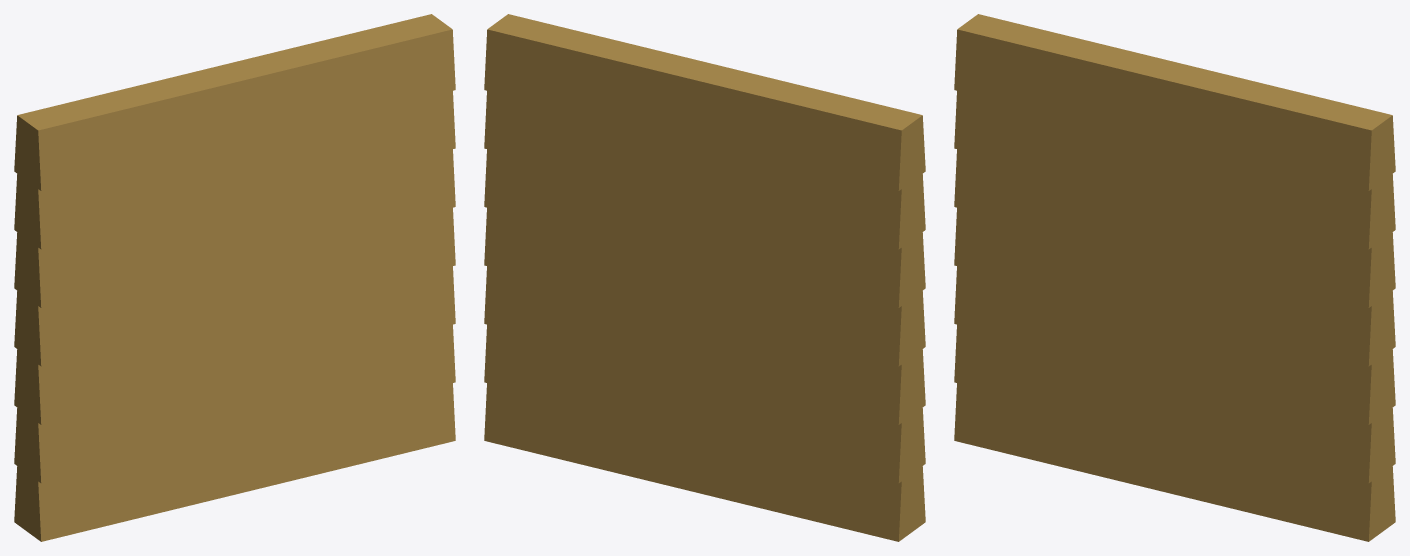
The model's file is Wall01_house4.obj.
3 renders of one model, left to right at view 1: azimuth 30°, elevation 25°; view 2: azimuth 150°, elevation 25°; view 3: azimuth 330°, elevation 25°, orthographic.
Visible parts, largest first — view 1: Wall01_house04_Cube.002; view 2: Wall01_house04_Cube.002; view 3: Wall01_house04_Cube.002.
Part boxes in pixels (x1,y1,x2,y2): Wall01_house04_Cube.002: (14,14,455,541); Wall01_house04_Cube.002: (484,14,925,541); Wall01_house04_Cube.002: (954,14,1395,541).
Bounding box in the file's own units: 3.5 × 3.3 × 0.3957.
